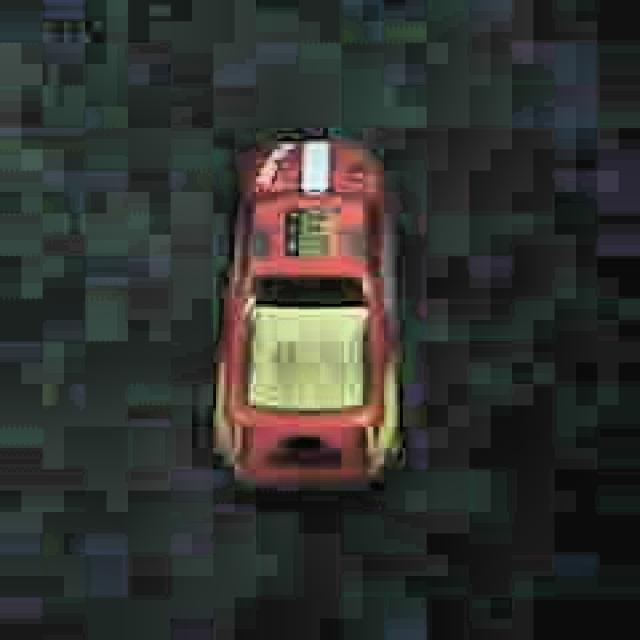car: (214, 133, 410, 494)
